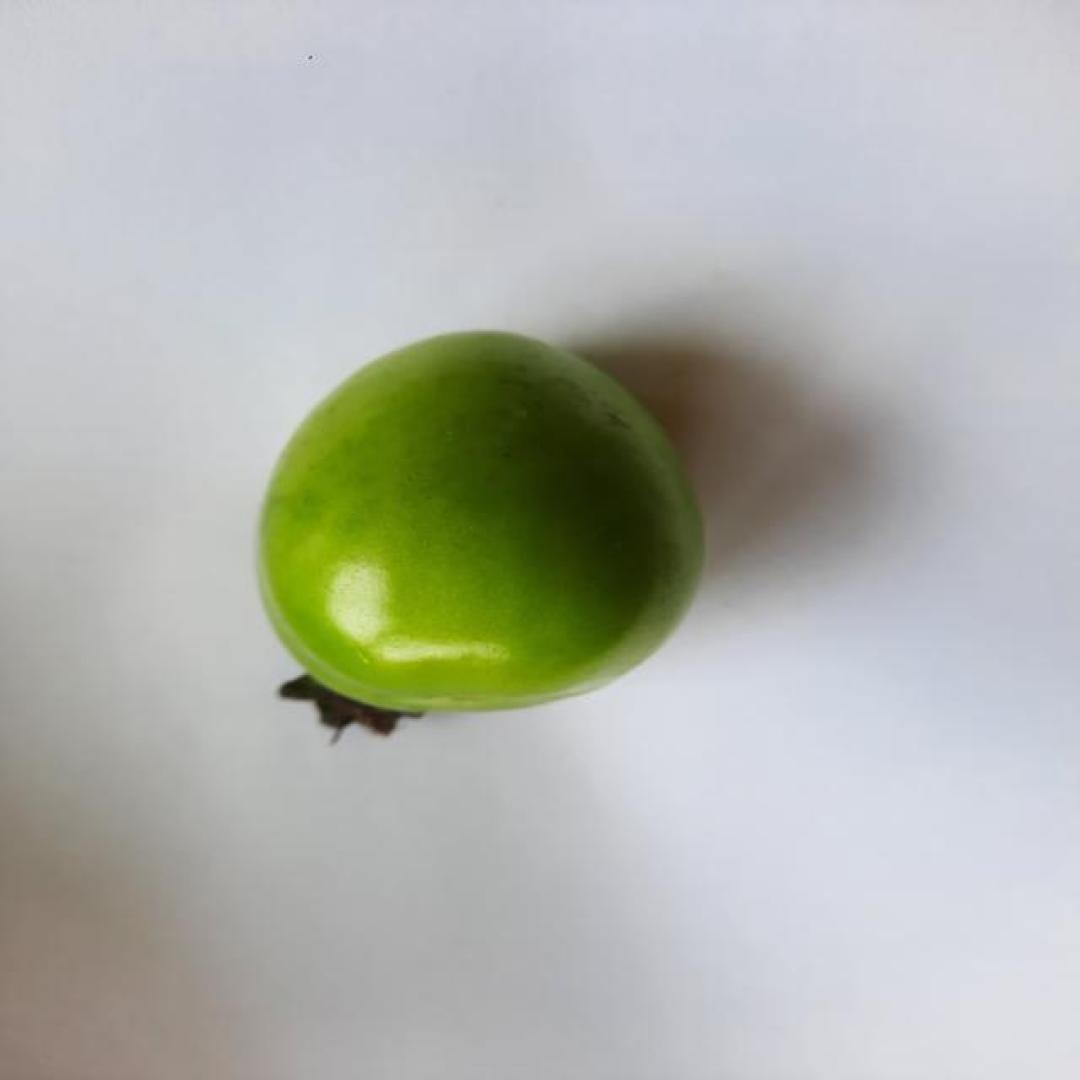mentah: (255, 329, 709, 744)
